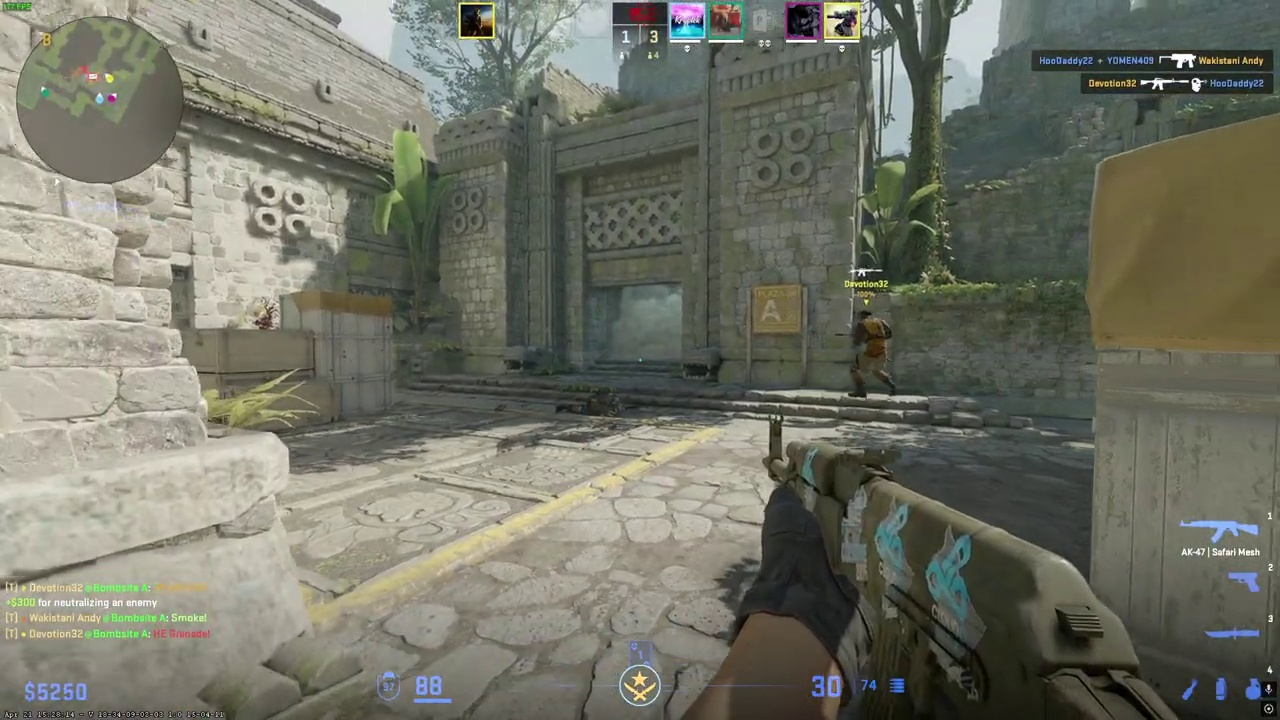Terrorist: (843, 308, 898, 399)
